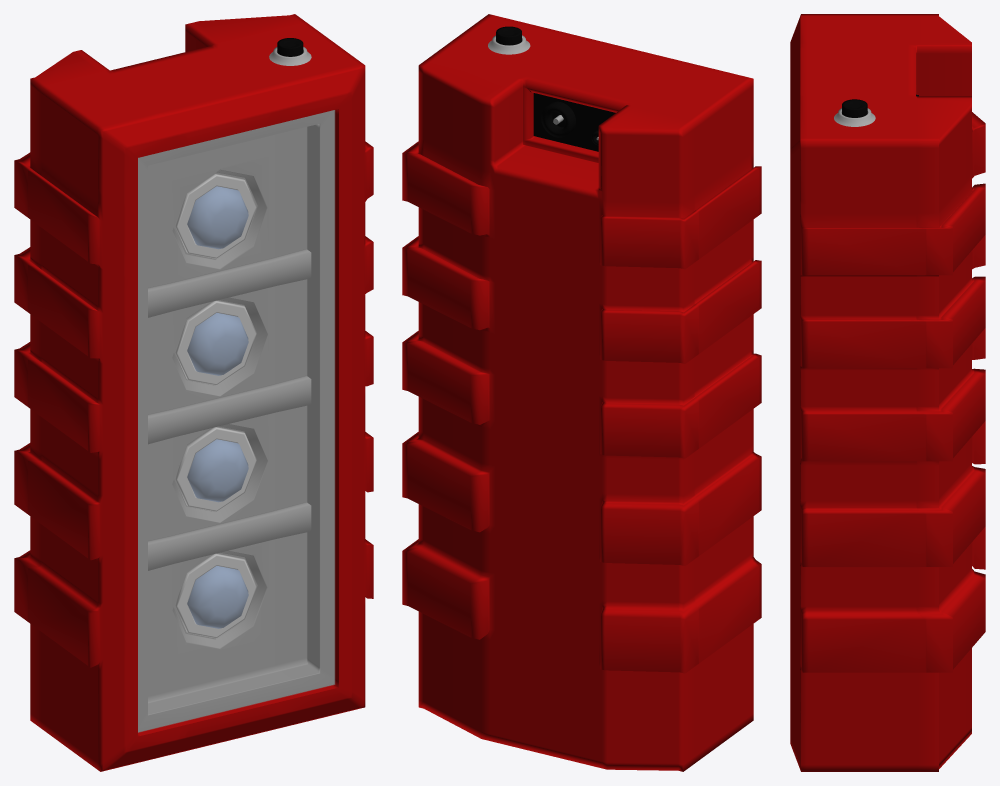
The model's file is Emergency Light.fbx.
3 views of the same model, side by side, from view 1: azimuth 30°, elevation 25°; view 2: azimuth 150°, elevation 25°; view 3: azimuth 270°, elevation 25° (orthographic).
Visible parts, largest first — view 1: polySurface7, polySurface8, polySurface9, polySurface14, polySurface20, polySurface15, polySurface13, polySurface17, polySurface19, polySurface11, polySurface12, polySurface16 (+2 smaller); view 2: polySurface7, polySurface21, polySurface3; view 3: polySurface7, polySurface5, polySurface6.
Boxes of the visible parts, left/top/right/bottom form: polySurface7: left=14, top=14, right=373, bottom=771; polySurface8: left=138, top=110, right=335, bottom=732; polySurface9: left=138, top=110, right=334, bottom=732; polySurface14: left=148, top=249, right=311, bottom=317; polySurface20: left=148, top=502, right=311, bottom=570; polySurface15: left=148, top=376, right=311, bottom=444; polySurface13: left=187, top=313, right=248, bottom=375; polySurface17: left=187, top=566, right=248, bottom=628; polySurface19: left=187, top=439, right=248, bottom=502; polySurface11: left=187, top=186, right=248, bottom=249; polySurface12: left=175, top=300, right=256, bottom=385; polySurface16: left=175, top=553, right=256, bottom=638; polySurface7: left=402, top=14, right=761, bottom=771; polySurface21: left=533, top=93, right=615, bottom=151; polySurface3: left=541, top=101, right=575, bottom=137; polySurface7: left=790, top=14, right=985, bottom=771; polySurface5: left=834, top=108, right=875, bottom=126; polySurface6: left=842, top=99, right=867, bottom=117.
Bounding box in the file's own units: 6.45 × 14.28 × 3.93.
